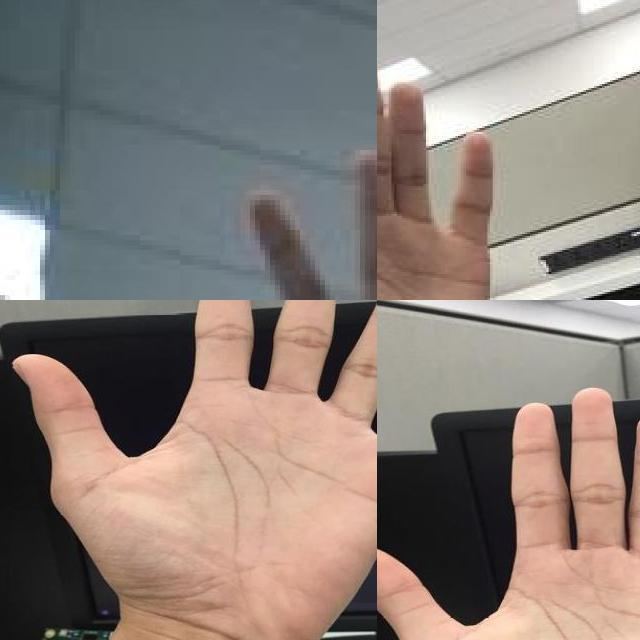no-gloves: (12, 300, 377, 640), (377, 389, 640, 640), (377, 54, 520, 300), (175, 150, 377, 300)
